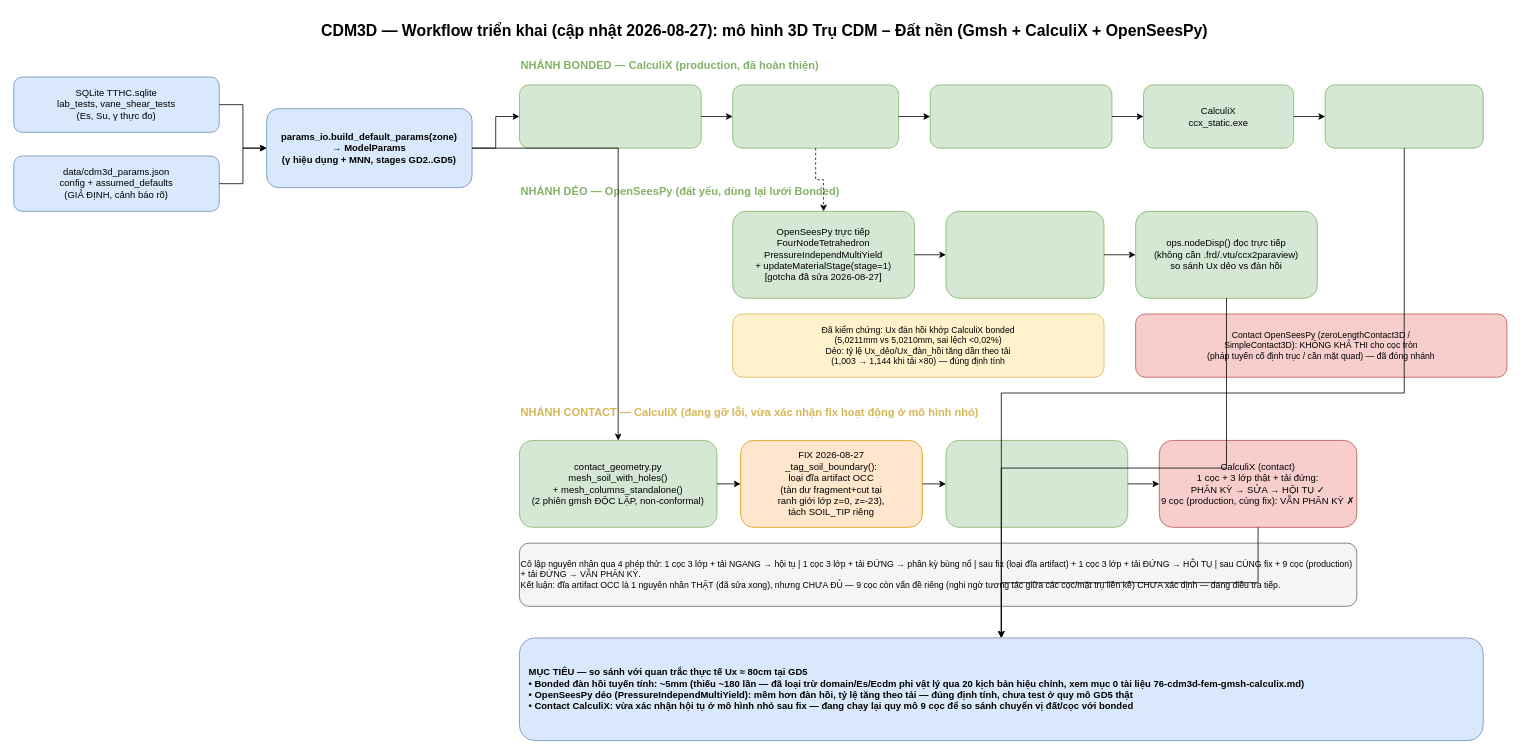
Image size: 1529x754. Some labels were removed from this diagram. Each missing label, with the centre of its shape:
ccx_input.py write_ccx_inp() GD0→GD1 MODEL CHANGE + tải lệch tâm: the point at 1020,116
contact_ccx_input.py write_ccx_inp_contact() *CONTACT PAIR α-Tomlinson → μ_equiv: the point at 1036,483
geometry.py build_geometry() occ.fragment() — lưới CHUNG nút: the point at 610,116
mesh_gmsh.py generate_mesh() tứ diện C3D4/C3D10: the point at 815,116
ops.analyze() Newton + LoadControl: the point at 1024,254
postprocess.py PNG / GIF (pyvista) xoay 360° + tải tăng dần: the point at 1403,116
